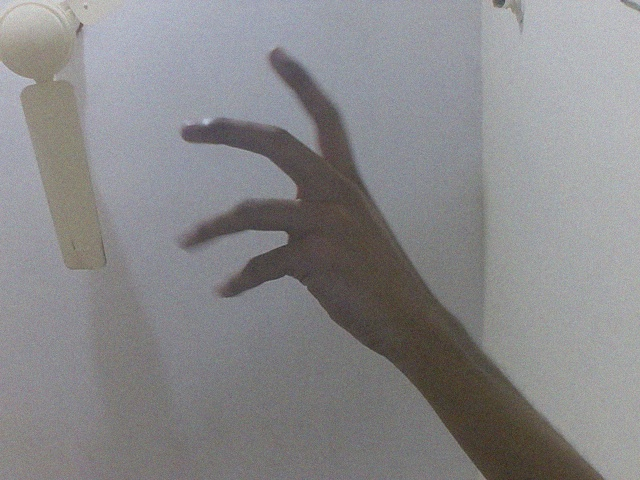hand: (172, 46, 434, 371)
